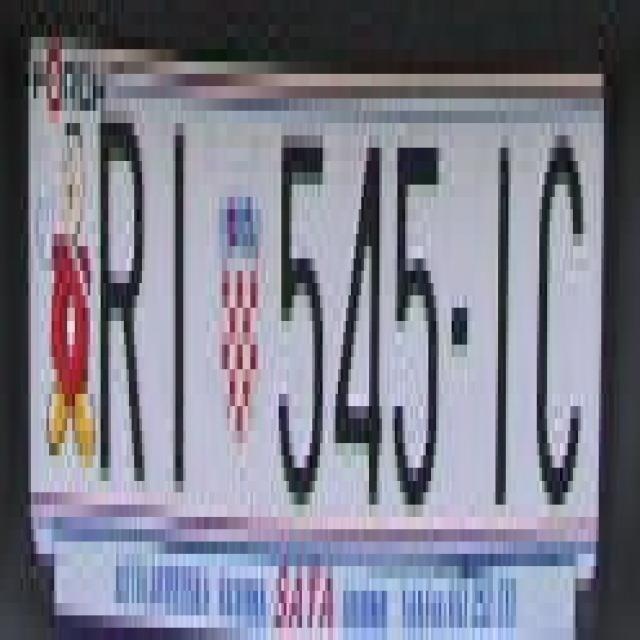4: (328, 86, 387, 480)
5: (271, 86, 323, 505), (392, 123, 444, 505)
C: (526, 111, 586, 517)
